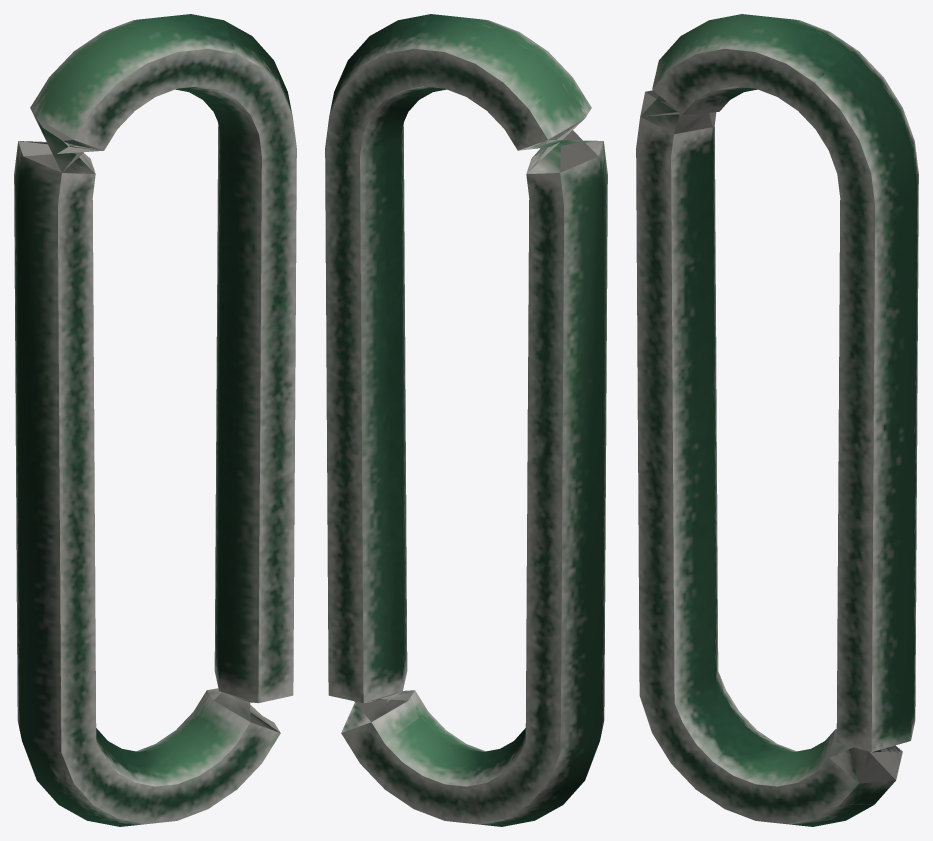
Rendered from Tetherbolt_ChainLink.fbx.
3 renders of one model, left to right at view 1: azimuth 30°, elevation 25°; view 2: azimuth 150°, elevation 25°; view 3: azimuth 330°, elevation 25°, orthographic.
Visible parts, largest first — view 1: Tetherbolt_ChainLink; view 2: Tetherbolt_ChainLink; view 3: Tetherbolt_ChainLink.
Part boxes in pixels (<box>): Tetherbolt_ChainLink: <box>14,14,296,826</box>; Tetherbolt_ChainLink: <box>325,14,607,826</box>; Tetherbolt_ChainLink: <box>636,14,918,826</box>.
Size of the model in its own units: 0.094 by 0.264 by 0.026.
